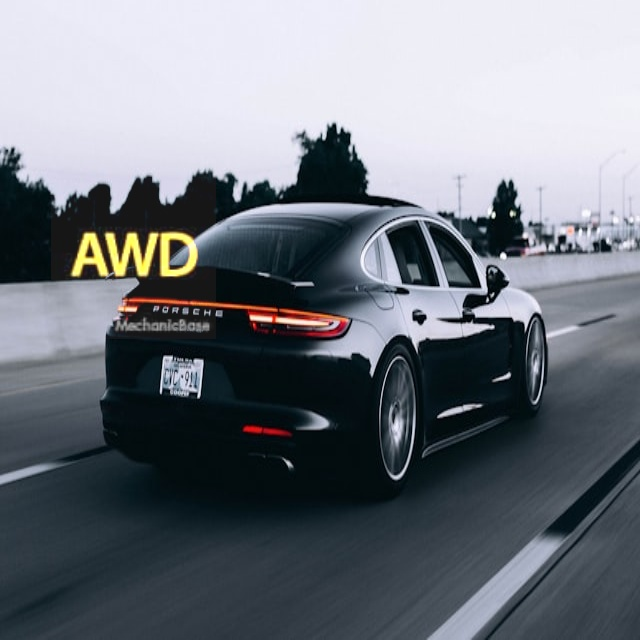symbol: (51, 174, 216, 339)
